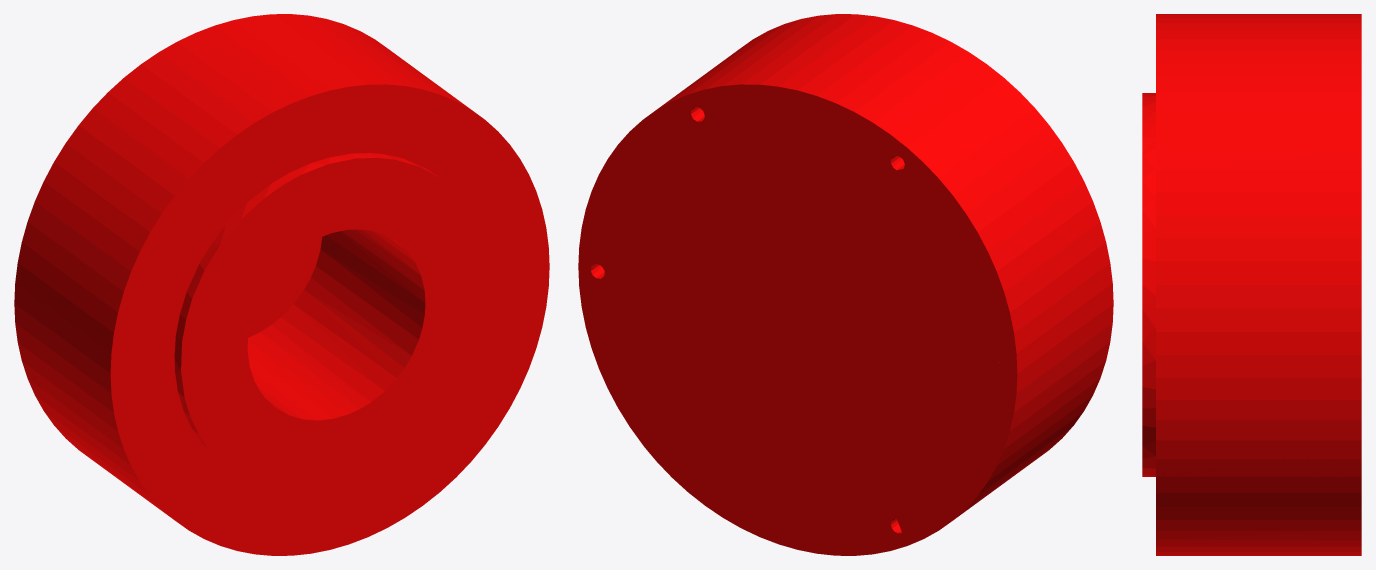
The model's file is legs_1_right_leg_1_x6_1_outer_1.glb.
The picture shows the model from 3 angles, left to right: view 1: azimuth 30°, elevation 25°; view 2: azimuth 150°, elevation 25°; view 3: azimuth 270°, elevation 25°; orthographic projection. The views are drawn at different scales.
Visible parts, largest first — view 1: legs_1_right_leg_1_x6_1_outer_1.obj; view 2: legs_1_right_leg_1_x6_1_outer_1.obj; view 3: legs_1_right_leg_1_x6_1_outer_1.obj.
Part boxes in pixels (left/top/right/bottom): legs_1_right_leg_1_x6_1_outer_1.obj: left=14, top=14, right=549, bottom=555; legs_1_right_leg_1_x6_1_outer_1.obj: left=578, top=14, right=1113, bottom=555; legs_1_right_leg_1_x6_1_outer_1.obj: left=1142, top=14, right=1361, bottom=555.
Size of the model in its own units: 0.079 by 0.079 by 0.032.
